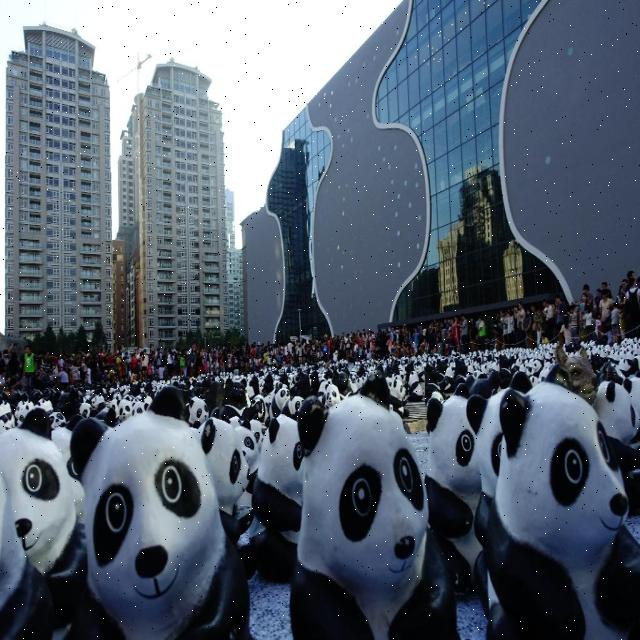panda: (0, 336, 640, 604), (67, 386, 250, 639), (287, 372, 459, 638), (484, 368, 640, 640), (0, 407, 89, 639)
